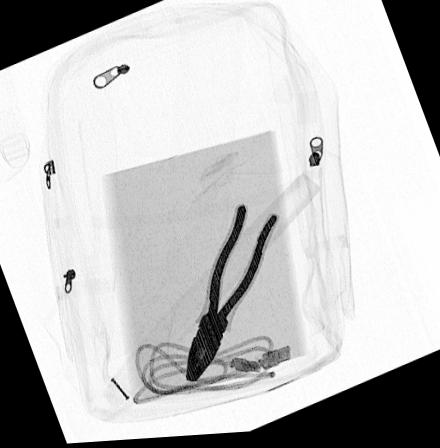Pliers: (183, 204, 280, 385)
